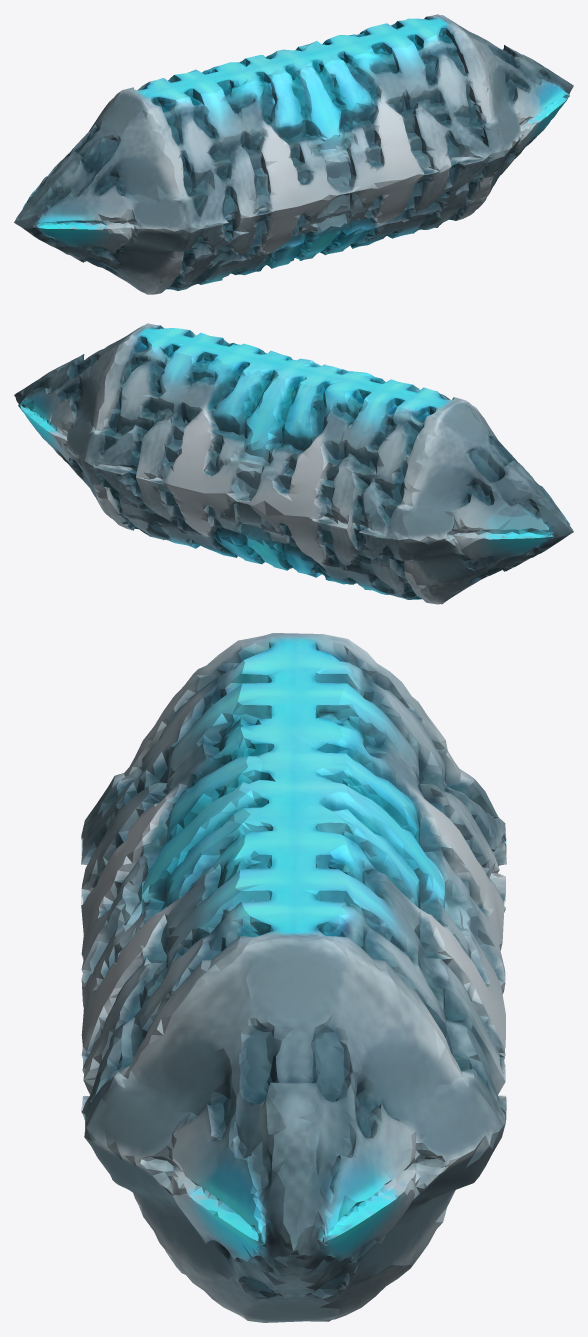
The model's file is nova_hull.glb.
3 views of the same model, one above another, from view 1: azimuth 30°, elevation 25°; view 2: azimuth 150°, elevation 25°; view 3: azimuth 270°, elevation 25° (orthographic). The views are drawn at different scales.
Visible parts, largest first — view 1: nova_hull; view 2: nova_hull; view 3: nova_hull.
Part boxes in pixels (bbox=[...]): nova_hull: bbox=[14, 14, 573, 294]; nova_hull: bbox=[14, 323, 573, 604]; nova_hull: bbox=[81, 633, 506, 1322].
Bounding box in the file's own units: 1.89 × 0.6212 × 0.6234.
Materials: 1 (1 with a texture image).
